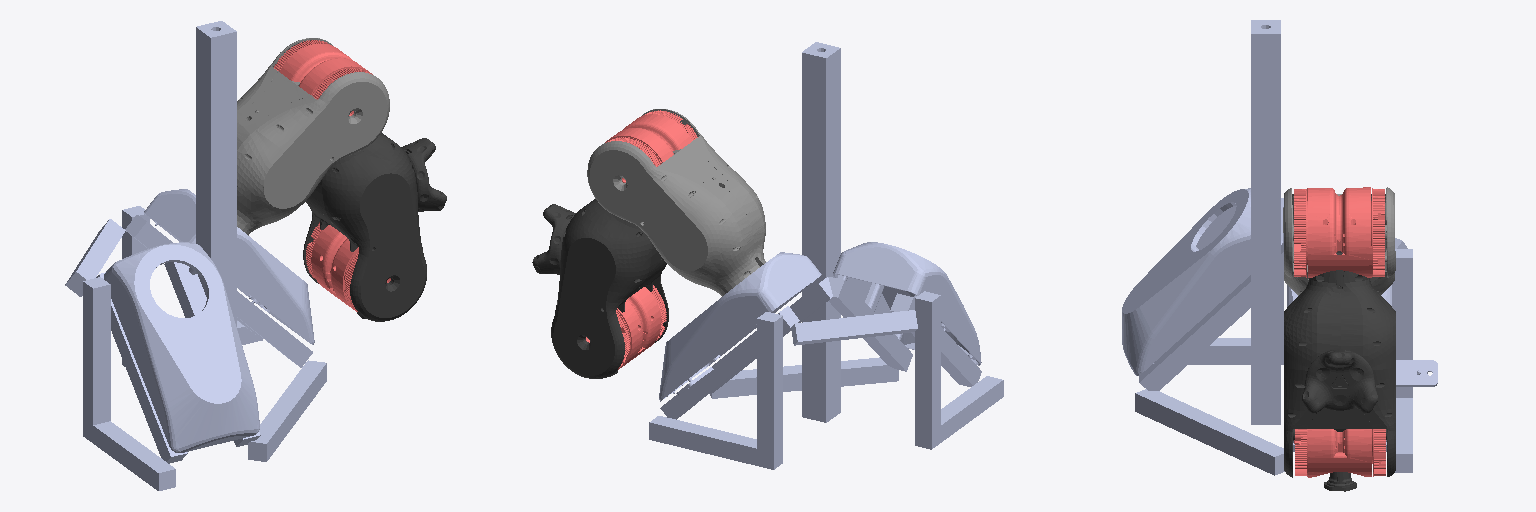
URDF robot description (koko_description_fivedof_dyn):
<robot
  name="koko_description_fivedof_dyn">
  <link
    name="base_link">
    <inertial>
      <origin
        xyz="0.0128424654307168 -0.162261711643048 0.155657622910268"
        rpy="0 0 0" />
      <mass
        value="2.50668095471534" />
      <inertia
        ixx="0.0599827724543488"
        ixy="-0.00761117858508908"
        ixz="0.000334029187700718"
        iyy="0.0597504740015784"
        iyz="-0.000387733898574592"
        izz="0.0375364118295859" />
    </inertial>
    <visual>
      <origin
        xyz="0 0 0"
        rpy="0 0 0" />
      <geometry>
        <mesh
          filename="package://koko_description_fivedof_dyn/meshes/base_link.STL" />
      </geometry>
      <material
        name="">
        <color
          rgba="0.792156862745098 0.819607843137255 0.933333333333333 1" />
      </material>
    </visual>
    <collision>
      <origin
        xyz="0 0 0"
        rpy="0 0 0" />
      <geometry>
        <mesh
          filename="package://koko_description_fivedof_dyn/meshes/base_link.STL" />
      </geometry>
    </collision>
  </link>
  <link
    name="shoulder_link">
    <inertial>
      <origin
        xyz="-0.00747857948149683 -2.49197817350222E-05 0.0799282586709638"
        rpy="0 0 0" />
      <mass
        value="4.0726802774157" />
      <inertia
        ixx="0.00617143853870932"
        ixy="-6.35617393597009E-07"
        ixz="-7.28586368309064E-06"
        iyy="0.00633184758208093"
        iyz="-4.26825696645809E-07"
        izz="0.00593999200778494" />
    </inertial>
    <visual>
      <origin
        xyz="0 0 0"
        rpy="0 0 0" />
      <geometry>
        <mesh
          filename="package://koko_description_fivedof_dyn/meshes/shoulder_link.STL" />
      </geometry>
      <material
        name="">
        <color
          rgba="0.6 0.6 0.6 1" />
      </material>
    </visual>
    <collision>
      <origin
        xyz="0 0 0"
        rpy="0 0 0" />
      <geometry>
        <mesh
          filename="package://koko_description_fivedof_dyn/meshes/shoulder_link.STL" />
      </geometry>
    </collision>
  </link>
  <joint
    name="base_roll_joint"
    type="continuous">
    <origin
      xyz="0.0966447291250239 -0.0908049999999999 0.218621617367798"
      rpy="6.83851519316138E-15 0.785398163397447 4.83556046633164E-15" />
    <parent
      link="base_link" />
    <child
      link="shoulder_link" />
    <axis
      xyz="0 0 1" />
  </joint>
  <link
    name="shoulder_lift_link">
    <inertial>
      <origin
        xyz="-0.000509420379059794 0.00189435487419076 -3.04426530650659E-08"
        rpy="0 0 0" />
      <mass
        value="0.437261345267004" />
      <inertia
        ixx="0.00102610459108985"
        ixy="-1.55407005616958E-05"
        ixz="-6.48354364237729E-07"
        iyy="0.00108268590910931"
        iyz="-6.86831903511075E-07"
        izz="0.000657530055811328" />
    </inertial>
    <visual>
      <origin
        xyz="0 0 0"
        rpy="0 0 0" />
      <geometry>
        <mesh
          filename="package://koko_description_fivedof_dyn/meshes/shoulder_lift_link.STL" />
      </geometry>
      <material
        name="">
        <color
          rgba="1 0.501960784313725 0.501960784313725 1" />
      </material>
    </visual>
    <collision>
      <origin
        xyz="0 0 0"
        rpy="0 0 0" />
      <geometry>
        <mesh
          filename="package://koko_description_fivedof_dyn/meshes/shoulder_lift_link.STL" />
      </geometry>
    </collision>
  </link>
  <joint
    name="shoulder_lift_joint"
    type="continuous">
    <origin
      xyz="0.0114299285786579 4.04065193964076E-05 0.201676000000001"
      rpy="1.5707963267949 -0.785395039094458 0.0035351359132397" />
    <parent
      link="shoulder_link" />
    <child
      link="shoulder_lift_link" />
    <axis
      xyz="0 0 1" />
  </joint>
  <link
    name="upper_arm_link">
    <inertial>
      <origin
        xyz="0.00864576079421958 -2.07747901390665E-05 0.0557209659264426"
        rpy="0 0 0" />
      <mass
        value="4.27427958313188" />
      <inertia
        ixx="0.0080865233254023"
        ixy="1.63838828827827E-06"
        ixz="-0.000143654954709802"
        iyy="0.00870932867485313"
        iyz="2.30257411173754E-06"
        izz="0.00654125373069757" />
    </inertial>
    <visual>
      <origin
        xyz="0 0 0"
        rpy="0 0 0" />
      <geometry>
        <mesh
          filename="package://koko_description_fivedof_dyn/meshes/upper_arm_link.STL" />
      </geometry>
      <material
        name="">
        <color
          rgba="0.298039215686275 0.298039215686275 0.298039215686275 1" />
      </material>
    </visual>
    <collision>
      <origin
        xyz="0 0 0"
        rpy="0 0 0" />
      <geometry>
        <mesh
          filename="package://koko_description_fivedof_dyn/meshes/upper_arm_link.STL" />
      </geometry>
    </collision>
  </link>
  <joint
    name="shoulder_roll_joint"
    type="continuous">
    <origin
      xyz="0.0185369364262471 -0.0681800004148113 0"
      rpy="1.5707963267949 -0.00259045364213944 0.265465420981425" />
    <parent
      link="shoulder_lift_link" />
    <child
      link="upper_arm_link" />
    <axis
      xyz="0 0 -1" />
  </joint>
  <link
    name="upper_arm_lift_link">
    <inertial>
      <origin
        xyz="-0.000218842264423369 0.00199077302946288 2.90342883069172E-08"
        rpy="0 0 0" />
      <mass
        value="0.424523142326092" />
      <inertia
        ixx="0.00101023115127483"
        ixy="-1.07390832021077E-05"
        ixz="-1.8153680449928E-06"
        iyy="0.00107183736033294"
        iyz="-8.37681560089103E-07"
        izz="0.000658499001313836" />
    </inertial>
    <visual>
      <origin
        xyz="0 0 0"
        rpy="0 0 0" />
      <geometry>
        <mesh
          filename="package://koko_description_fivedof_dyn/meshes/upper_arm_lift_link.STL" />
      </geometry>
      <material
        name="">
        <color
          rgba="1 0.501960784313725 0.501960784313725 1" />
      </material>
    </visual>
    <collision>
      <origin
        xyz="0 0 0"
        rpy="0 0 0" />
      <geometry>
        <mesh
          filename="package://koko_description_fivedof_dyn/meshes/upper_arm_lift_link.STL" />
      </geometry>
    </collision>
  </link>
  <joint
    name="elbow_lift_joint"
    type="continuous">
    <origin
      xyz="-0.0114299616526613 2.96089129253052E-05 0.181015691674818"
      rpy="-1.5707963267949 -0.265459172375448 -0.00259045364213955" />
    <parent
      link="upper_arm_link" />
    <child
      link="upper_arm_lift_link" />
    <axis
      xyz="0 0 1" />
  </joint>
  <link
    name="forearm_link">
    <inertial>
      <origin
        xyz="0.0061350260642222 -5.60473732281741E-05 0.0735973927085572"
        rpy="0 0 0" />
      <mass
        value="4.75126456671681" />
      <inertia
        ixx="0.0159809883318945"
        ixy="4.42180267785987E-07"
        ixz="0.00123160938390481"
        iyy="0.0165207600339414"
        iyz="-6.92907820518099E-06"
        izz="0.00791860018544832" />
    </inertial>
    <visual>
      <origin
        xyz="0 0 0"
        rpy="0 0 0" />
      <geometry>
        <mesh
          filename="package://koko_description_fivedof_dyn/meshes/forearm_link.STL" />
      </geometry>
      <material
        name="">
        <color
          rgba="0.298039215686275 0.298039215686275 0.298039215686275 1" />
      </material>
    </visual>
    <collision>
      <origin
        xyz="0 0 0"
        rpy="0 0 0" />
      <geometry>
        <mesh
          filename="package://koko_description_fivedof_dyn/meshes/forearm_link.STL" />
      </geometry>
    </collision>
  </link>
  <joint
    name="elbow_roll_joint"
    type="continuous">
    <origin
      xyz="0.0118025765520783 -0.069662254165997 0"
      rpy="1.5707963267949 -0.00253533924781029 0.167831940552949" />
    <parent
      link="upper_arm_lift_link" />
    <child
      link="forearm_link" />
    <axis
      xyz="0 0 -1" />
  </joint>
</robot>

--- Facts derived from the render (not from the file) ---
3 views of the same robot in one strip: view 1: azimuth 30°, elevation 25°; view 2: azimuth 150°, elevation 25°; view 3: azimuth 270°, elevation 25° (orthographic).
Model koko_description_fivedof_dyn with 6 links and 5 joints (5 continuous), rooted at base_link, posed every joint at zero.
Links seen in each view (by area): view 1: base_link, shoulder_link, upper_arm_link, shoulder_lift_link, upper_arm_lift_link; view 2: base_link, shoulder_link, upper_arm_link, shoulder_lift_link, upper_arm_lift_link; view 3: base_link, upper_arm_link, shoulder_lift_link, upper_arm_lift_link, shoulder_link.
Link boxes in pixels (bbox=[...]): base_link: bbox=[65, 21, 326, 490]; shoulder_link: bbox=[237, 38, 389, 235]; upper_arm_link: bbox=[303, 132, 446, 321]; shoulder_lift_link: bbox=[274, 40, 372, 115]; upper_arm_lift_link: bbox=[306, 222, 390, 311]; base_link: bbox=[649, 42, 1003, 469]; shoulder_link: bbox=[587, 109, 765, 296]; upper_arm_link: bbox=[532, 199, 668, 378]; shoulder_lift_link: bbox=[605, 110, 697, 182]; upper_arm_lift_link: bbox=[586, 285, 666, 369]; base_link: bbox=[1122, 20, 1437, 475]; upper_arm_link: bbox=[1284, 251, 1395, 491]; shoulder_lift_link: bbox=[1294, 187, 1384, 277]; upper_arm_lift_link: bbox=[1294, 429, 1385, 477]; shoulder_link: bbox=[1283, 187, 1395, 295].
Size in the robot's own frame: 0.5524 by 0.3898 by 0.5334 metres.
Meshes: 6 distinct files referenced, 5 mesh visuals loaded (5 binary STL); not drawn: 1 (reference not matched to a file when rendering).
